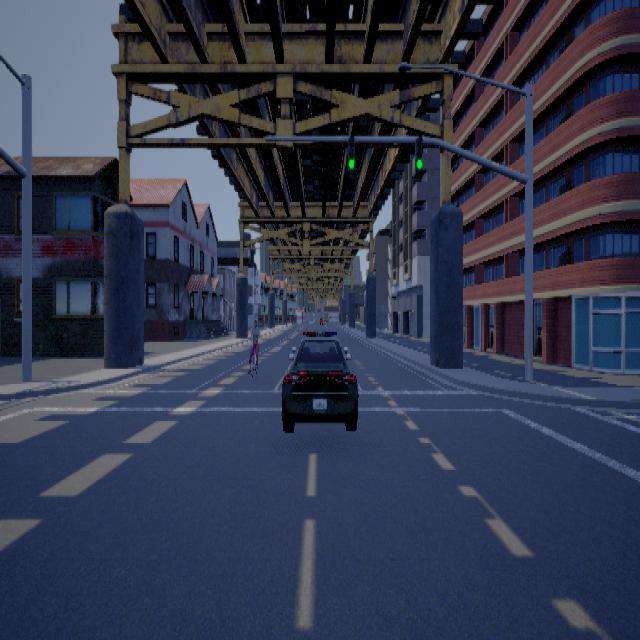bike: (244, 317, 261, 374)
green_light: (414, 135, 422, 170), (347, 135, 354, 170)
vehicle: (280, 330, 358, 431)
